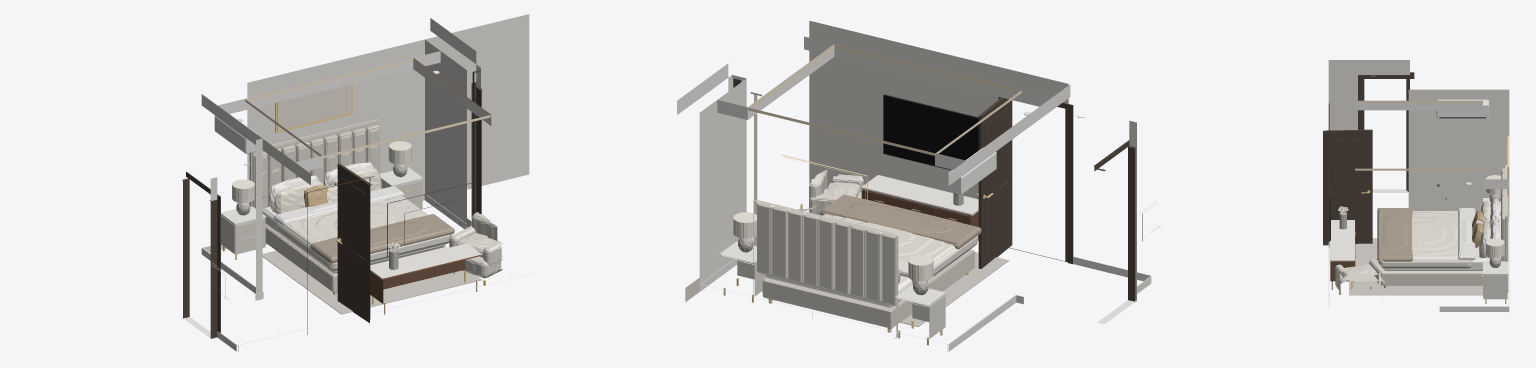
File: MASTER.glb
The picture shows the model from 3 angles, left to right: view 1: azimuth 30°, elevation 25°; view 2: azimuth 150°, elevation 25°; view 3: azimuth 270°, elevation 25°; orthographic projection. The views are drawn at different scales.
Visible parts, largest first — view 1: WEB_MASTER; view 2: WEB_MASTER; view 3: WEB_MASTER.
Boxes of the visible parts, bbox=[...] form: WEB_MASTER: bbox=[182, 14, 534, 351]; WEB_MASTER: bbox=[677, 20, 1160, 351]; WEB_MASTER: bbox=[1323, 60, 1509, 311].
Bounding box in the file's own units: 8.4 × 2.91 × 3.51.
